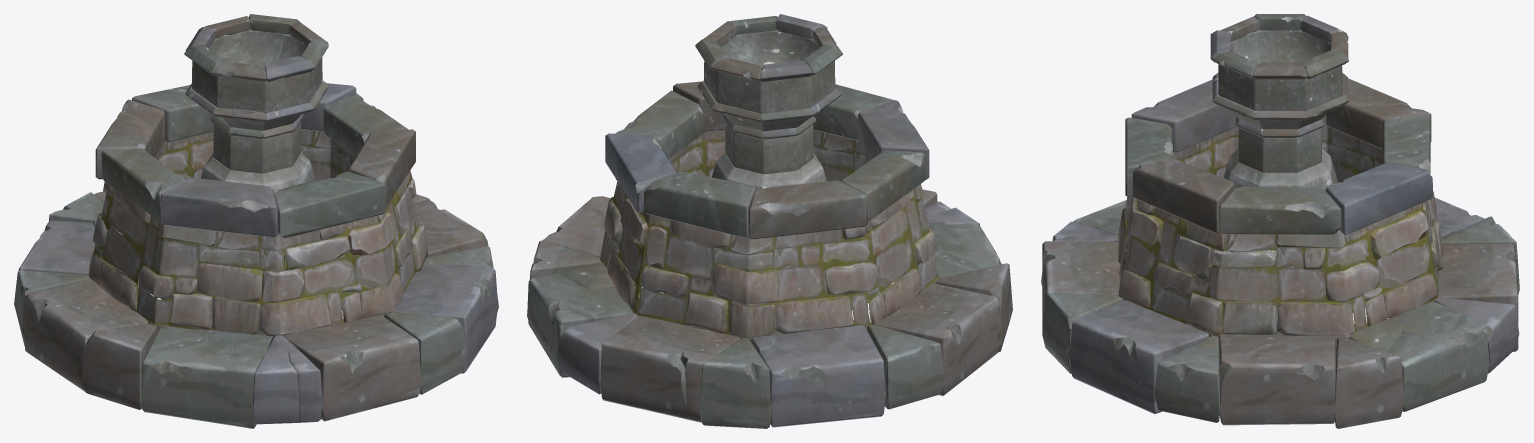
3 views of the same model, side by side, from view 1: azimuth 30°, elevation 25°; view 2: azimuth 150°, elevation 25°; view 3: azimuth 270°, elevation 25° (orthographic).
Visible parts, largest first — view 1: SM_Fountain_Large_01_LOD0; view 2: SM_Fountain_Large_01_LOD0; view 3: SM_Fountain_Large_01_LOD0.
Boxes of the visible parts, x1=… form: SM_Fountain_Large_01_LOD0: x1=14, y1=14, x2=498, y2=428; SM_Fountain_Large_01_LOD0: x1=527, y1=14, x2=1012, y2=428; SM_Fountain_Large_01_LOD0: x1=1041, y1=14, x2=1519, y2=428.
Size of the model in its own units: 2.8 by 1.91 by 2.8.
3 materials, 2 textured.
